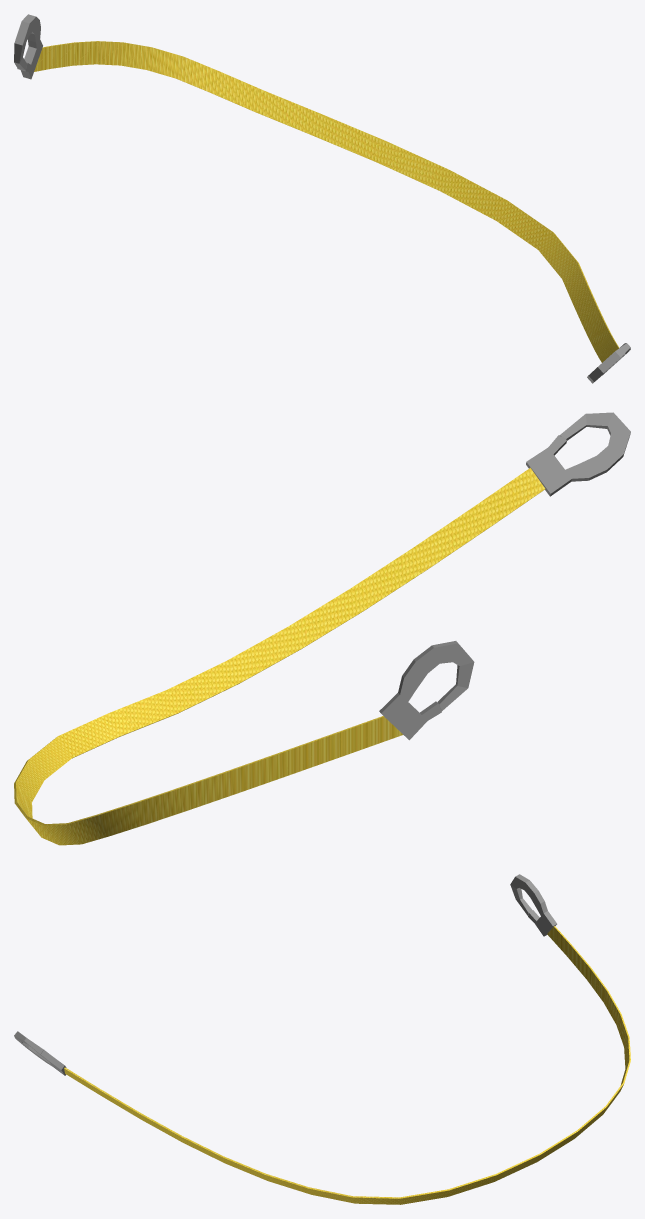
File: ESLINGA.FBX
The picture shows the model from 3 angles, top to bottom: view 1: azimuth 30°, elevation 25°; view 2: azimuth 150°, elevation 25°; view 3: azimuth 270°, elevation 25°; orthographic projection. The views are drawn at different scales.
Parts seen in each view (by area): view 1: Line001, Box011, Box010; view 2: Line001, Box011, Box010; view 3: Line001, Box011, Box010.
Boxes of the visible parts, left/top/right/bottom form: Line001: left=34, top=41, right=619, bottom=362; Box011: left=14, top=14, right=42, bottom=79; Box010: left=587, top=343, right=630, bottom=383; Line001: left=14, top=468, right=545, bottom=845; Box011: left=379, top=641, right=474, bottom=740; Box010: left=526, top=412, right=630, bottom=496; Line001: left=64, top=926, right=630, bottom=1204; Box011: left=510, top=874, right=556, bottom=936; Box010: left=14, top=1031, right=66, bottom=1075.
Bounding box in the file's own units: 44.01 × 25.32 × 75.21.
